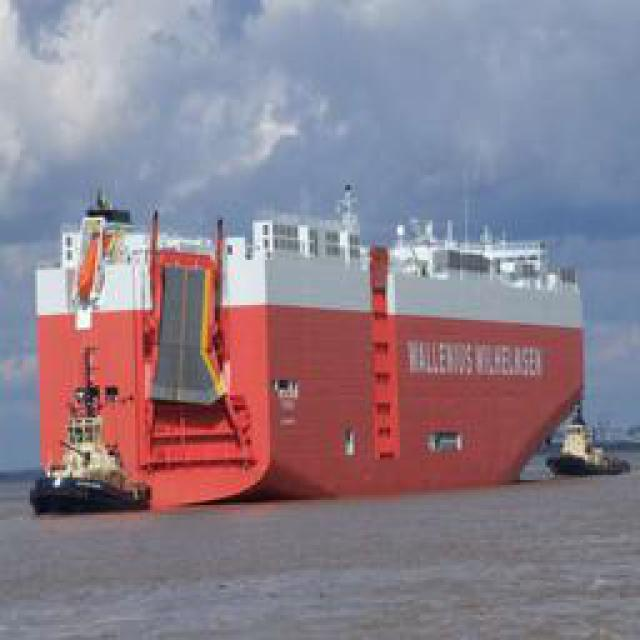Ship: (33, 170, 593, 516), (26, 345, 159, 524), (539, 386, 640, 493)
